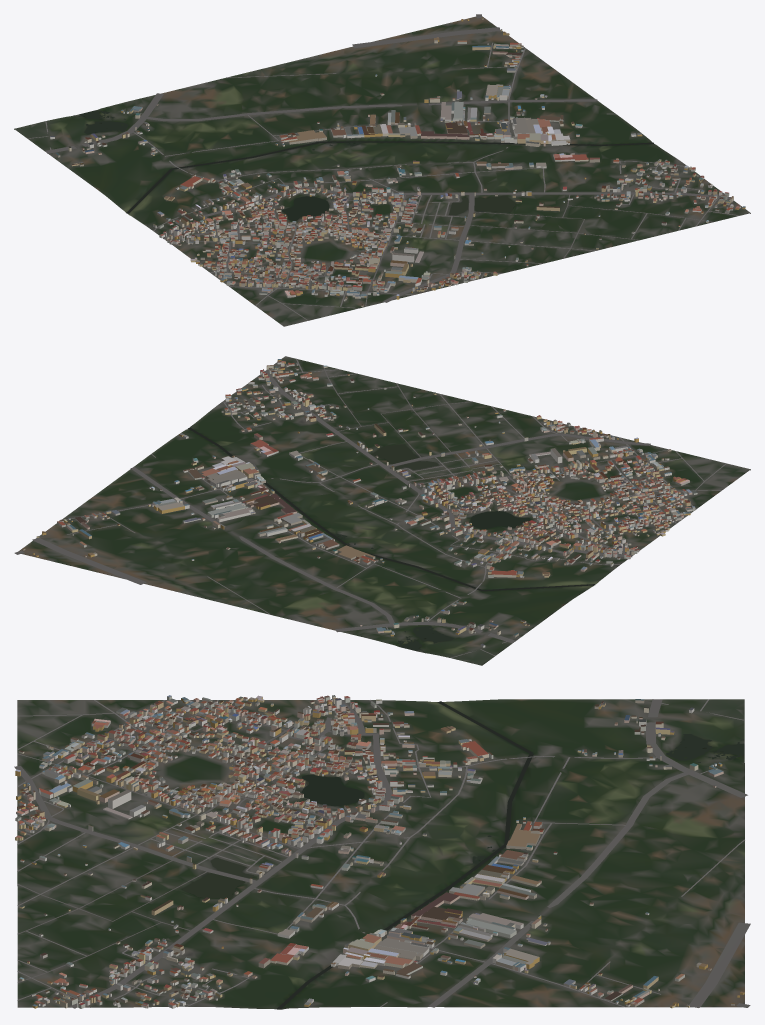
3 renders of one model, top to bottom at view 1: azimuth 30°, elevation 25°; view 2: azimuth 150°, elevation 25°; view 3: azimuth 270°, elevation 25°, orthographic. The views are drawn at different scales.
Parts seen in each view (by area): view 1: ground, buildings, roads, water; view 2: ground, buildings, roads, water; view 3: ground, buildings, roads, water.
Part boxes in pixels (bbox=[...]): ground: bbox=[14, 16, 750, 326]; buildings: bbox=[50, 17, 745, 306]; roads: bbox=[27, 14, 739, 320]; water: bbox=[73, 110, 653, 220]; ground: bbox=[18, 356, 750, 665]; buildings: bbox=[22, 359, 697, 647]; roads: bbox=[14, 358, 726, 657]; water: bbox=[188, 427, 594, 652]; ground: bbox=[17, 699, 744, 1009]; buildings: bbox=[15, 695, 744, 1008]; roads: bbox=[14, 699, 750, 1008]; water: bbox=[182, 701, 744, 1009].
Size of the model in its own units: 1419 by 26.22 by 1420.
